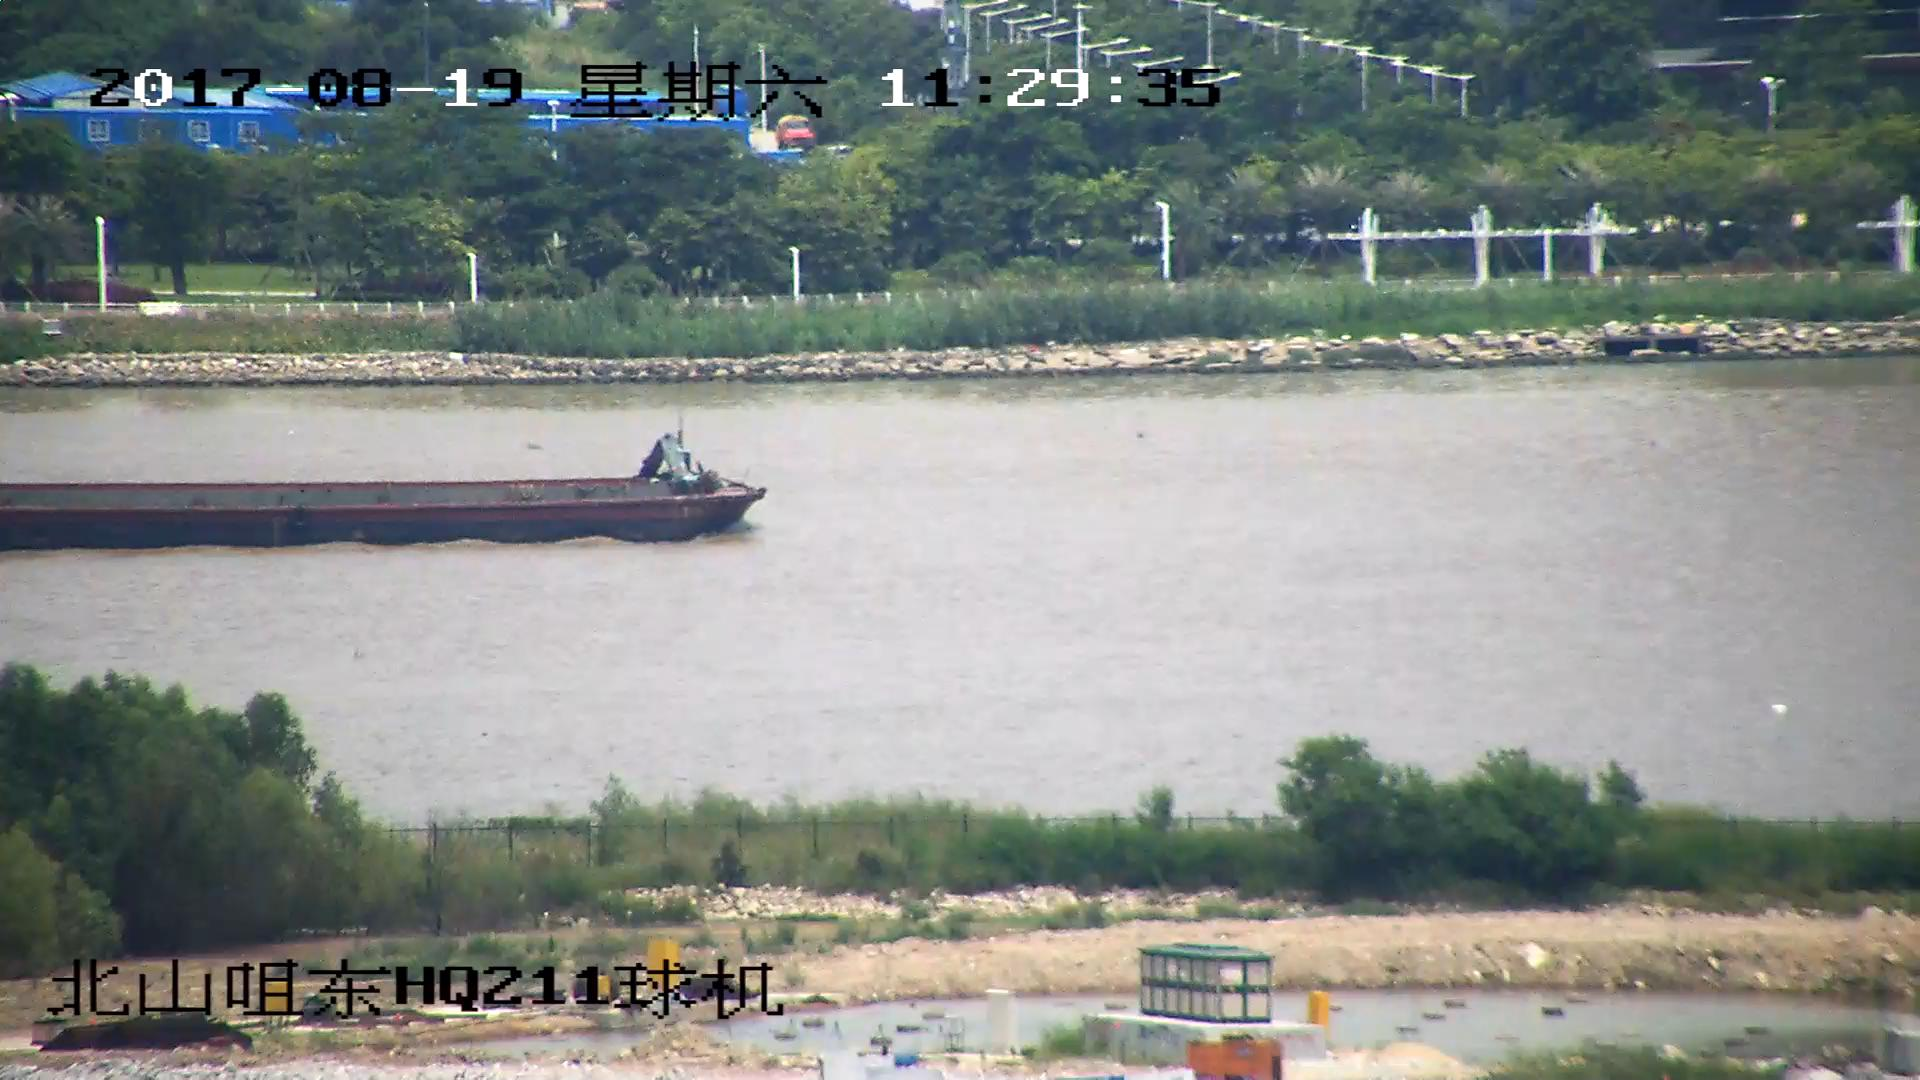general cargo ship: (1, 430, 766, 554)
